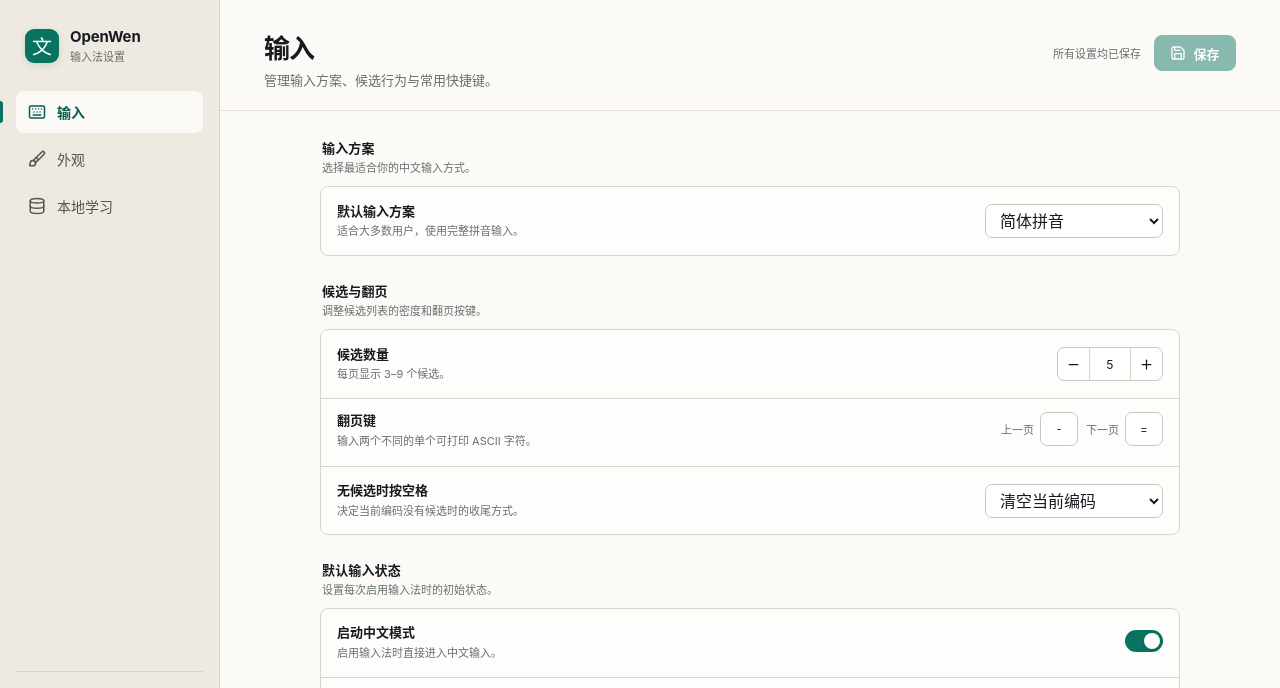
OpenWen 三页设置中心 › 清除使用模态对话框，默认聚焦取消，支持 Escape 并恢复触发焦点
Click the button "本地学习" at [110, 206], box [16,185,203,227]
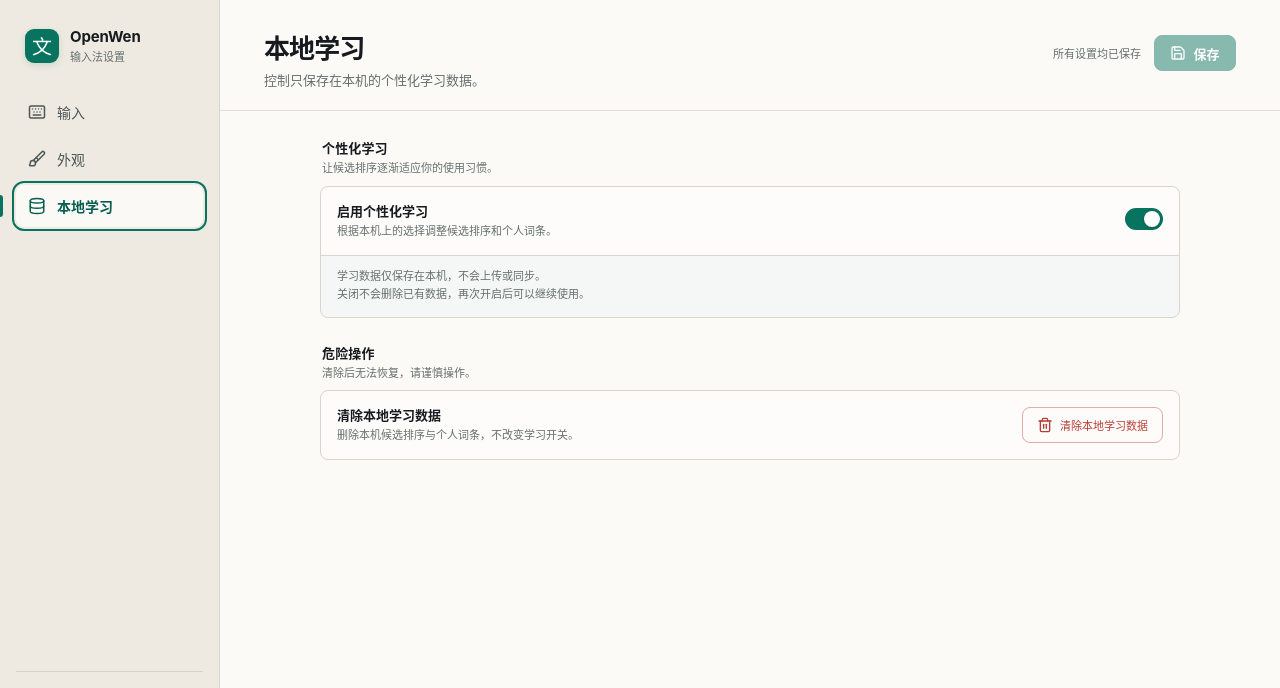
Click the button "清除本地学习数据" at [1092, 426], box [1022,408,1163,444]
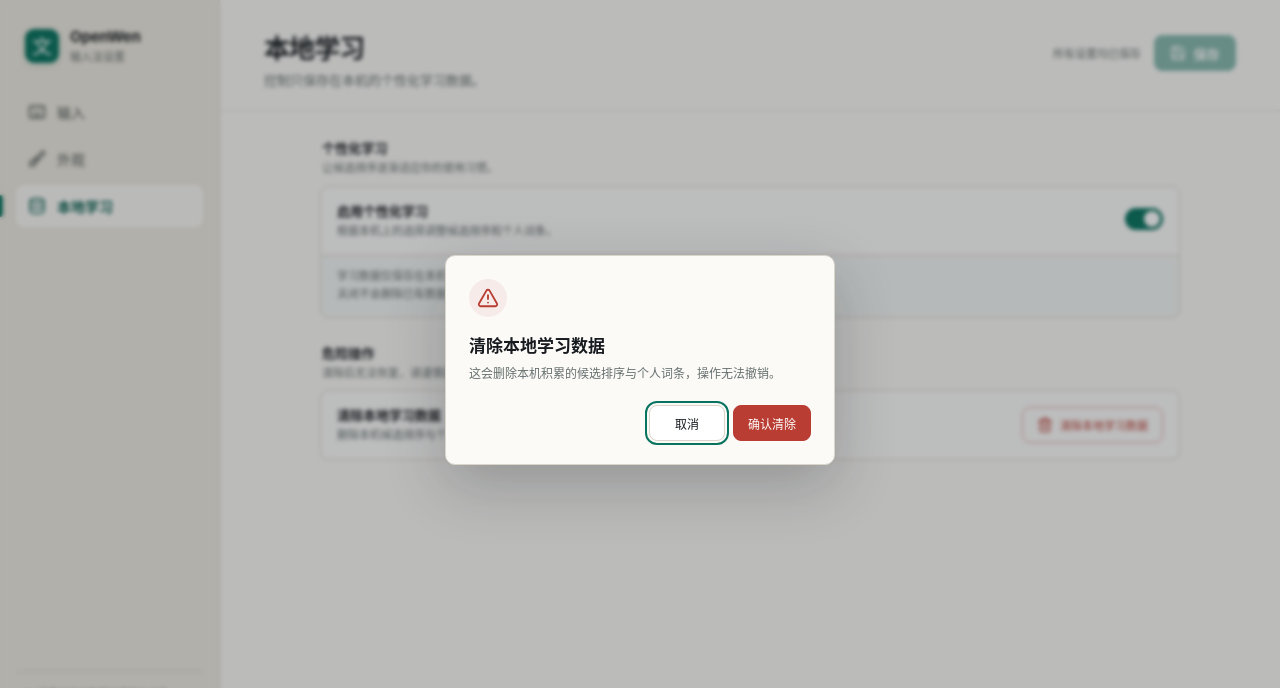
Expected: the dialog "清除本地学习数据" is shown, [445,255,835,465]
Press Escape
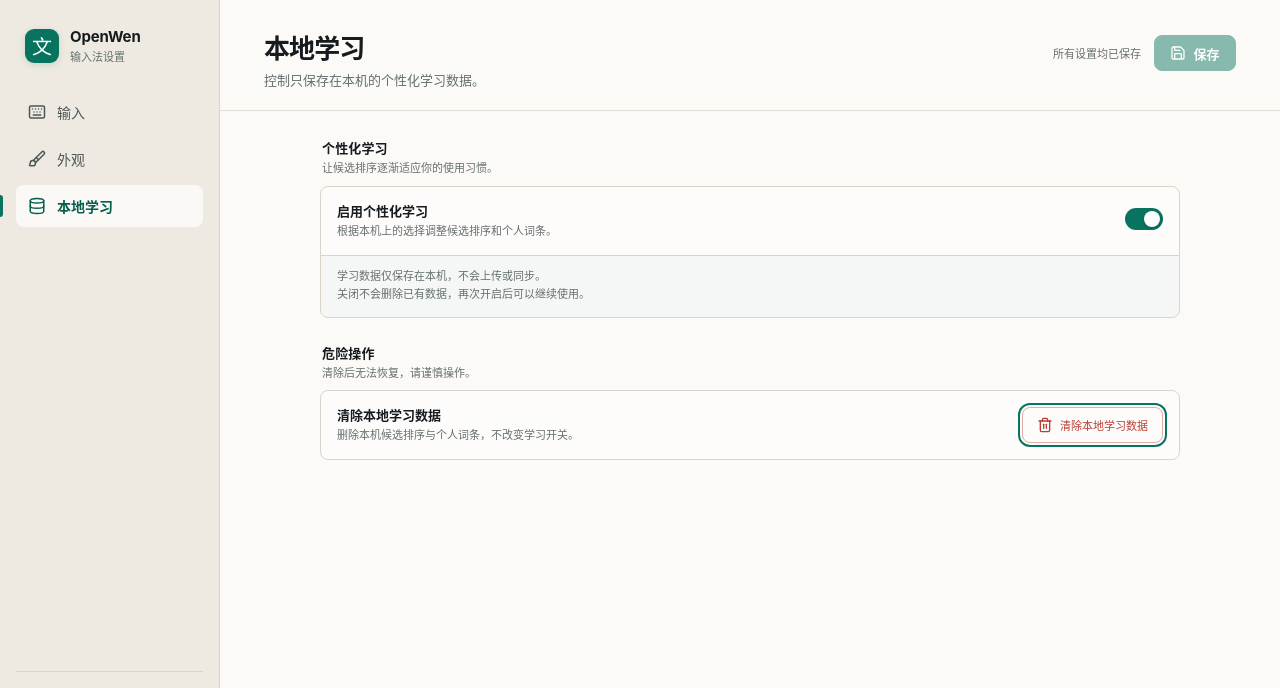
Expected: the dialog is gone
